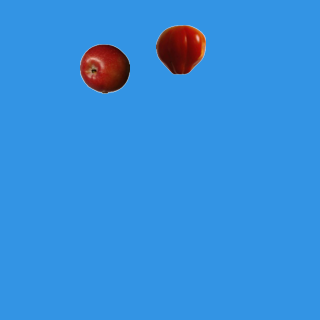Apple Braeburn: (79, 43, 129, 93)
Tomato 1: (155, 24, 205, 74)
